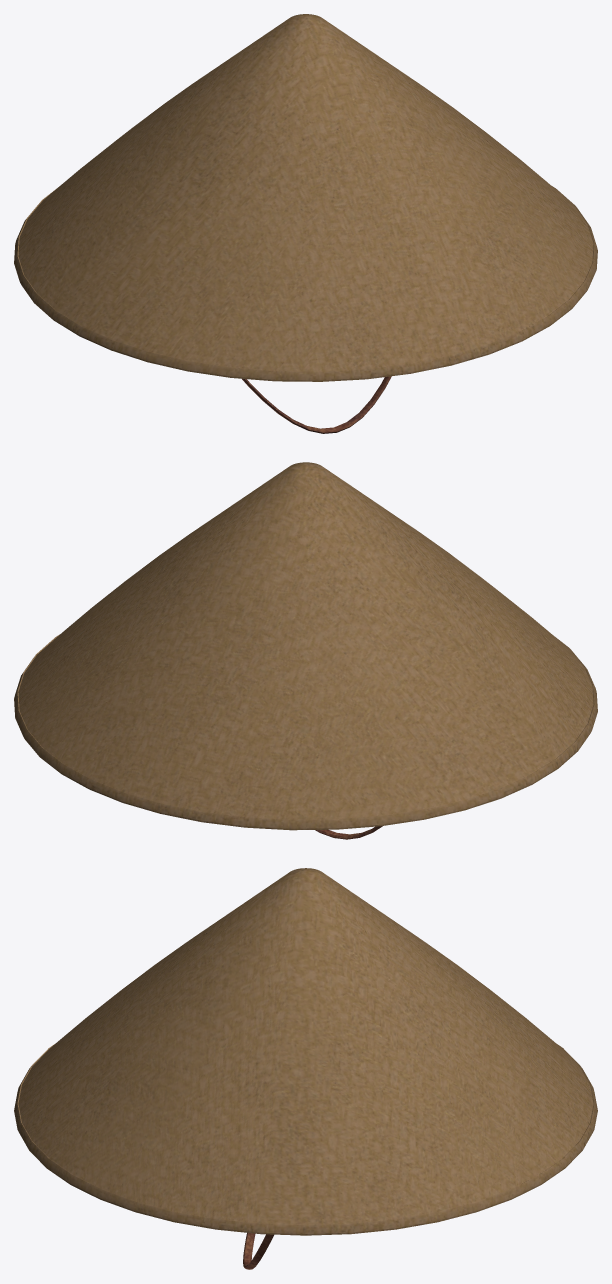
File: asian_conical_hat.glb
The picture shows the model from 3 angles, top to bottom: view 1: azimuth 30°, elevation 25°; view 2: azimuth 150°, elevation 25°; view 3: azimuth 270°, elevation 25°; orthographic projection.
Visible parts, largest first — view 1: Hut_0; view 2: Hut_0; view 3: Hut_0.
Boxes of the visible parts, x1,y1,x2,y2 form: Hut_0: [14, 14, 597, 433]; Hut_0: [14, 462, 597, 839]; Hut_0: [14, 868, 597, 1269].
Size of the model in its own units: 0.5545 by 0.412 by 0.5545.
1 material, 1 textured.
